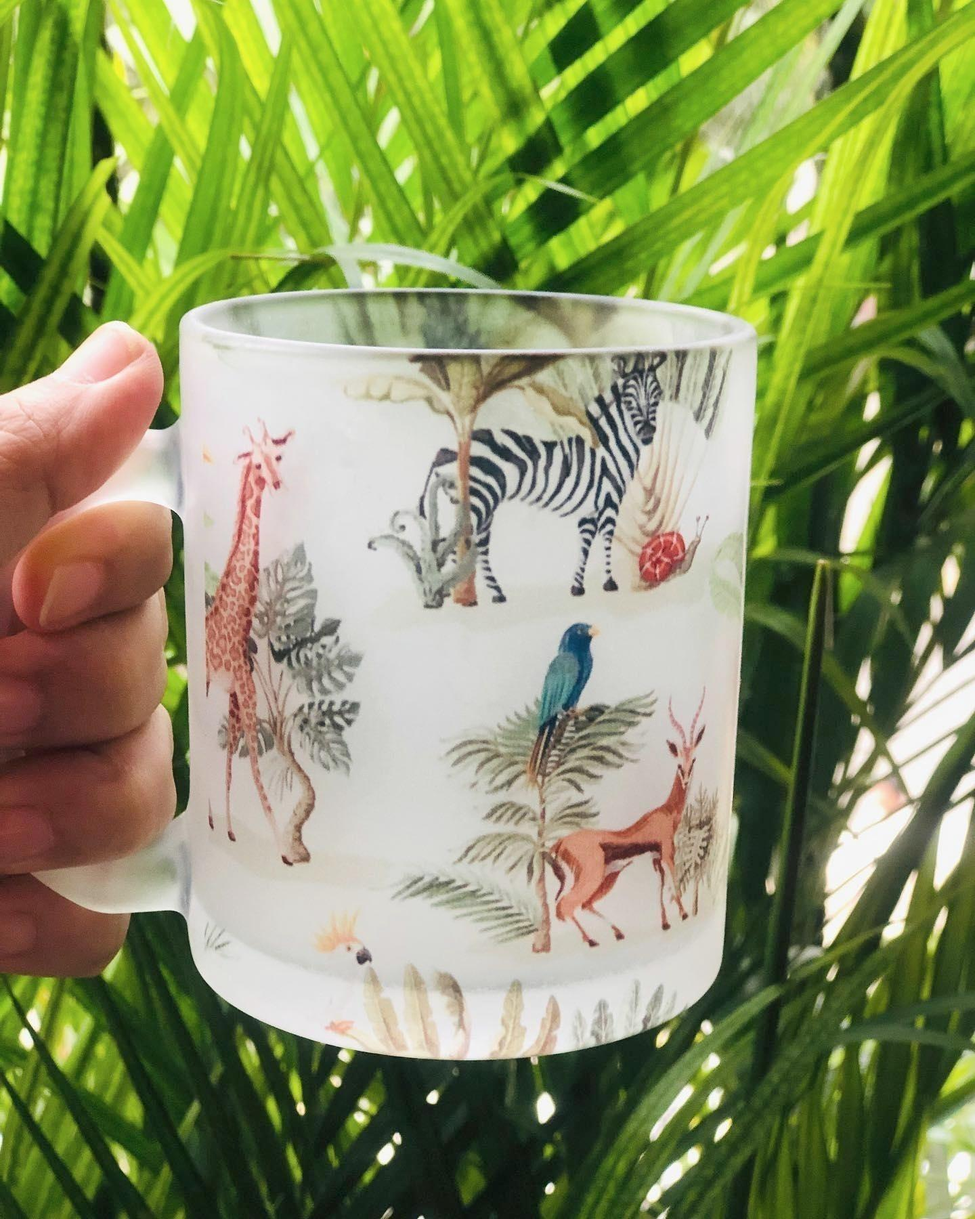glass-mug: (18, 267, 792, 1062)
